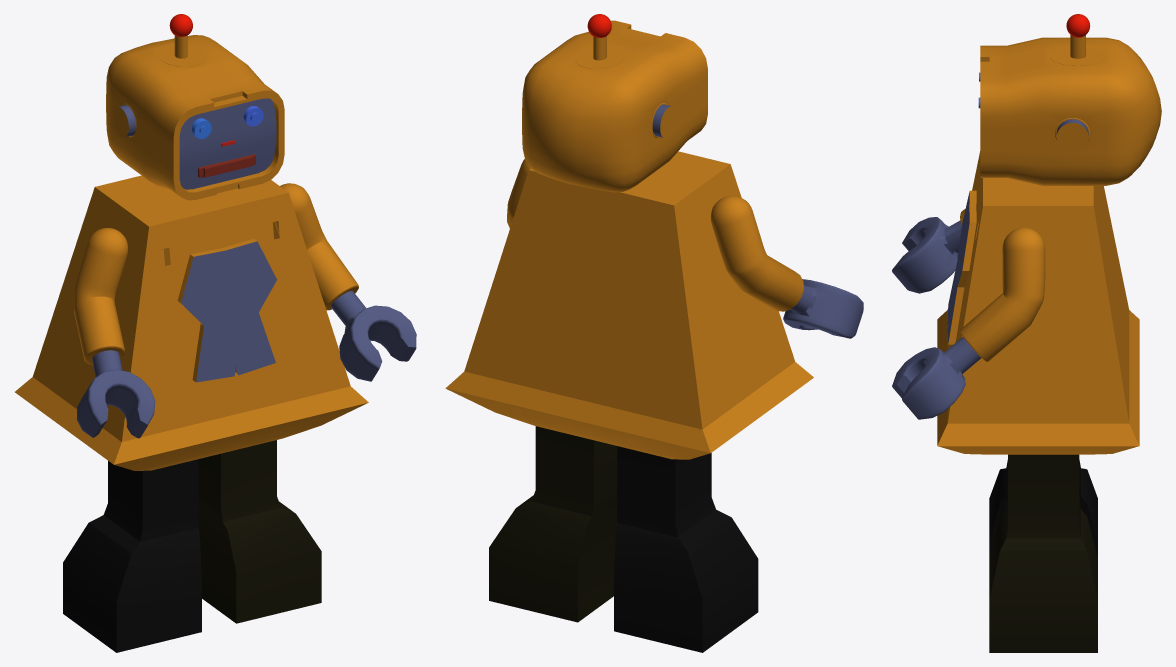
The model's file is pierre.glb.
3 views of the same model, side by side, from view 1: azimuth 30°, elevation 25°; view 2: azimuth 150°, elevation 25°; view 3: azimuth 270°, elevation 25° (orthographic). The views are drawn at different scales.
Visible parts, largest first — view 1: body; view 2: body; view 3: body.
Boxes of the visible parts, bbox=[...] form: body: bbox=[15, 14, 416, 652]; body: bbox=[445, 14, 863, 652]; body: bbox=[892, 14, 1161, 652].
Size of the model in its own units: 2.18 by 3.72 by 1.54.
